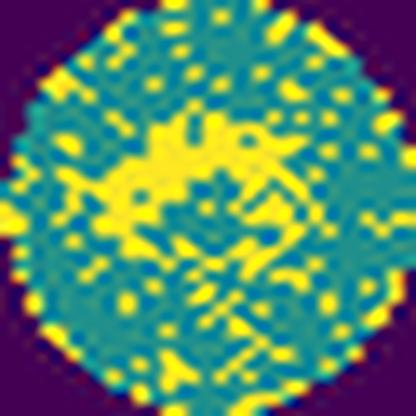Donut: (60, 86, 340, 309)
